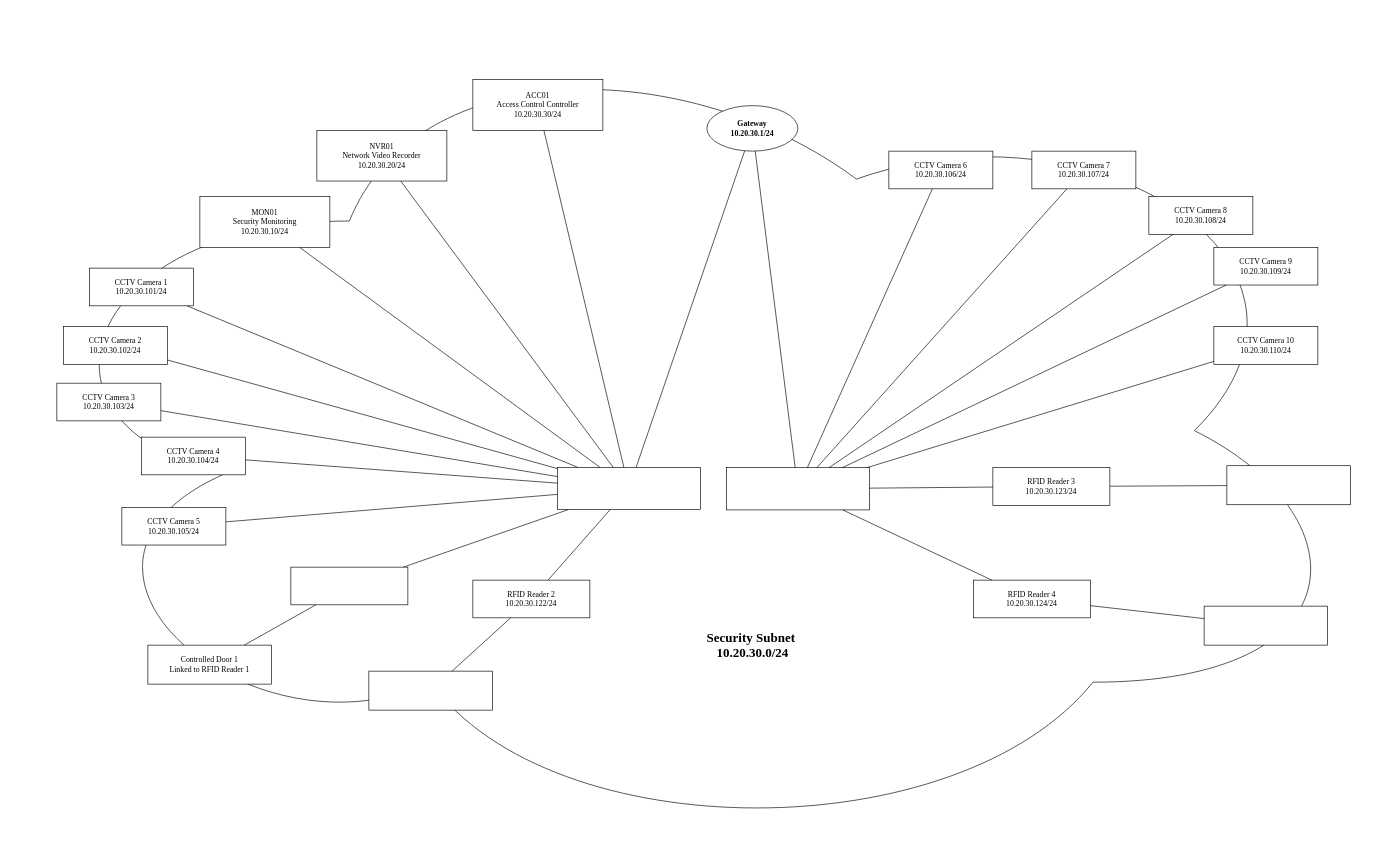
Image size: 1375x861. Some labels were removed from this diagram. Each missing label, with the box of its shape:
Controlled Door 2 Linked to RFID Reader 2: (368, 670, 492, 710)
Controlled Door 3 Linked to RFID Reader 3: (1226, 465, 1350, 505)
Controlled Door 4 Linked to RFID Reader 4: (1203, 605, 1328, 645)
RFID Reader 1 10.20.30.121/24: (290, 566, 408, 605)
SW30-A Security PoE Switch A: (557, 467, 700, 510)
SW30-B Security PoE Switch B: (726, 467, 869, 510)
